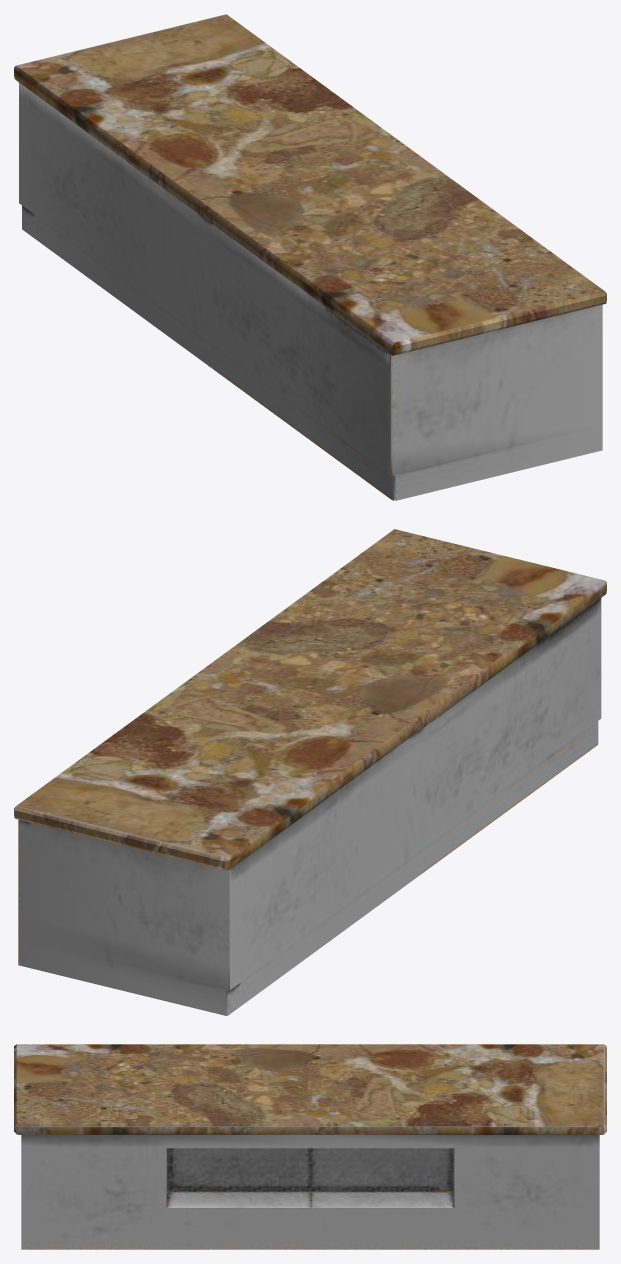
The model's file is SM_ShopCounter.glb.
3 renders of one model, top to bottom at view 1: azimuth 30°, elevation 25°; view 2: azimuth 150°, elevation 25°; view 3: azimuth 270°, elevation 25°, orthographic. The views are drawn at different scales.
Visible parts, largest first — view 1: SM_ShopCounter; view 2: SM_ShopCounter; view 3: SM_ShopCounter.
Part boxes in pixels (bbox=[...]): SM_ShopCounter: bbox=[14, 14, 606, 500]; SM_ShopCounter: bbox=[14, 529, 606, 1015]; SM_ShopCounter: bbox=[14, 1044, 606, 1249].
Size of the model in its own units: 1.79 by 1.29 by 5.51.
Materials: 1 (1 with a texture image).
